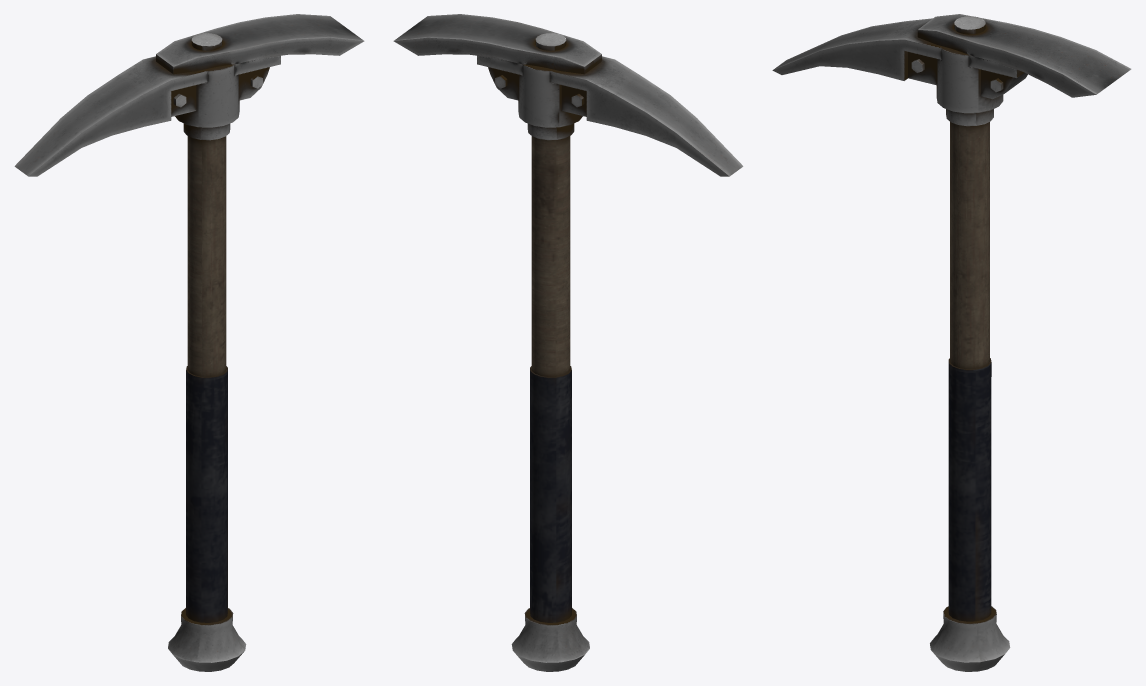
The model's file is Pick.fbx.
3 views of the same model, side by side, from view 1: azimuth 30°, elevation 25°; view 2: azimuth 150°, elevation 25°; view 3: azimuth 330°, elevation 25° (orthographic). The views are drawn at different scales.
Visible parts, largest first — view 1: Cylinder; view 2: Cylinder; view 3: Cylinder.
Boxes of the visible parts, <box> form: Cylinder: <box>14,14,364,671</box>; Cylinder: <box>393,14,743,671</box>; Cylinder: <box>772,14,1131,671</box>.
Bounding box in the file's own units: 50.36 × 91.57 × 10.57.
Materials: 1 (1 with a texture image).
